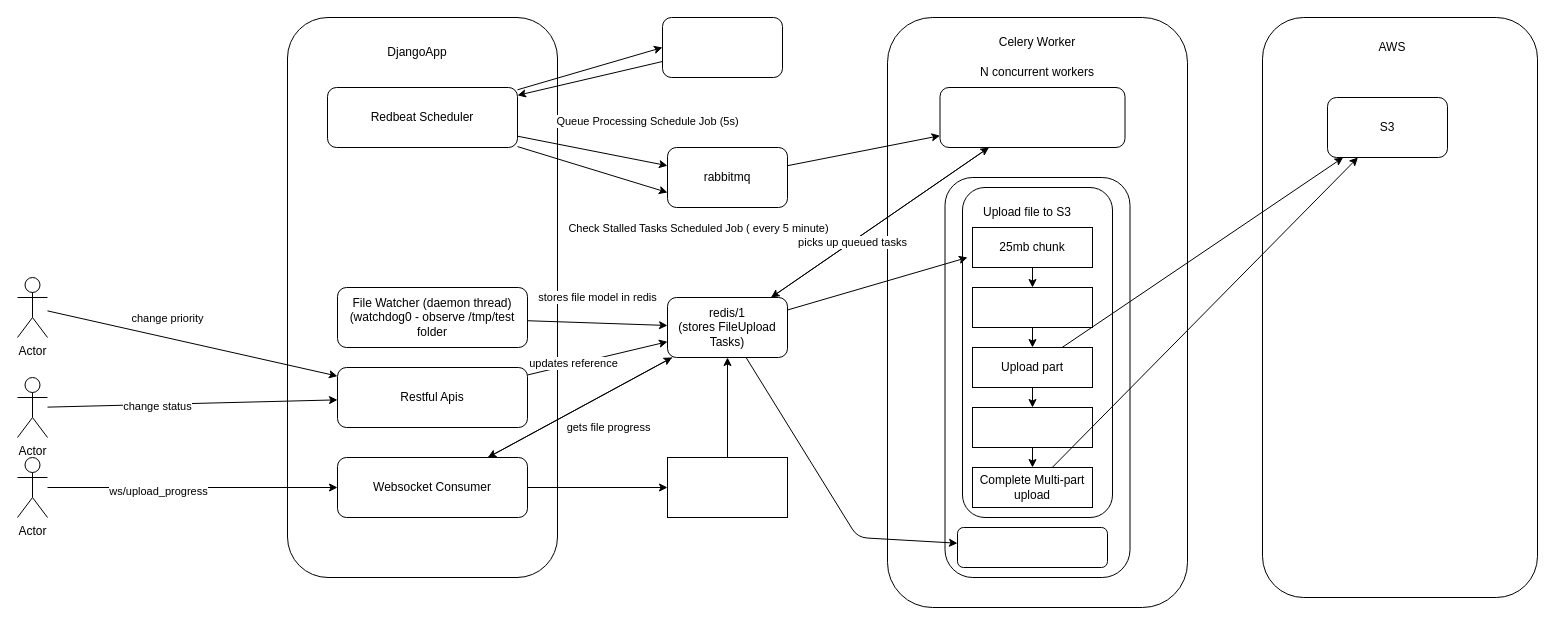
Image size: 1555x625. Some labels were removed from this diagram. Each missing label, with the centre of its shape:
Calculate Checksum: the point at 1032,307
Key space notifications (on string events): the point at 727,487
Pause -.> abort upload (exit worker): the point at 1032,547
Process Queue (checks next candidates for uploading: the point at 1032,117
redis/0 (stores schedules): the point at 722,47
Update progress: the point at 1032,427
